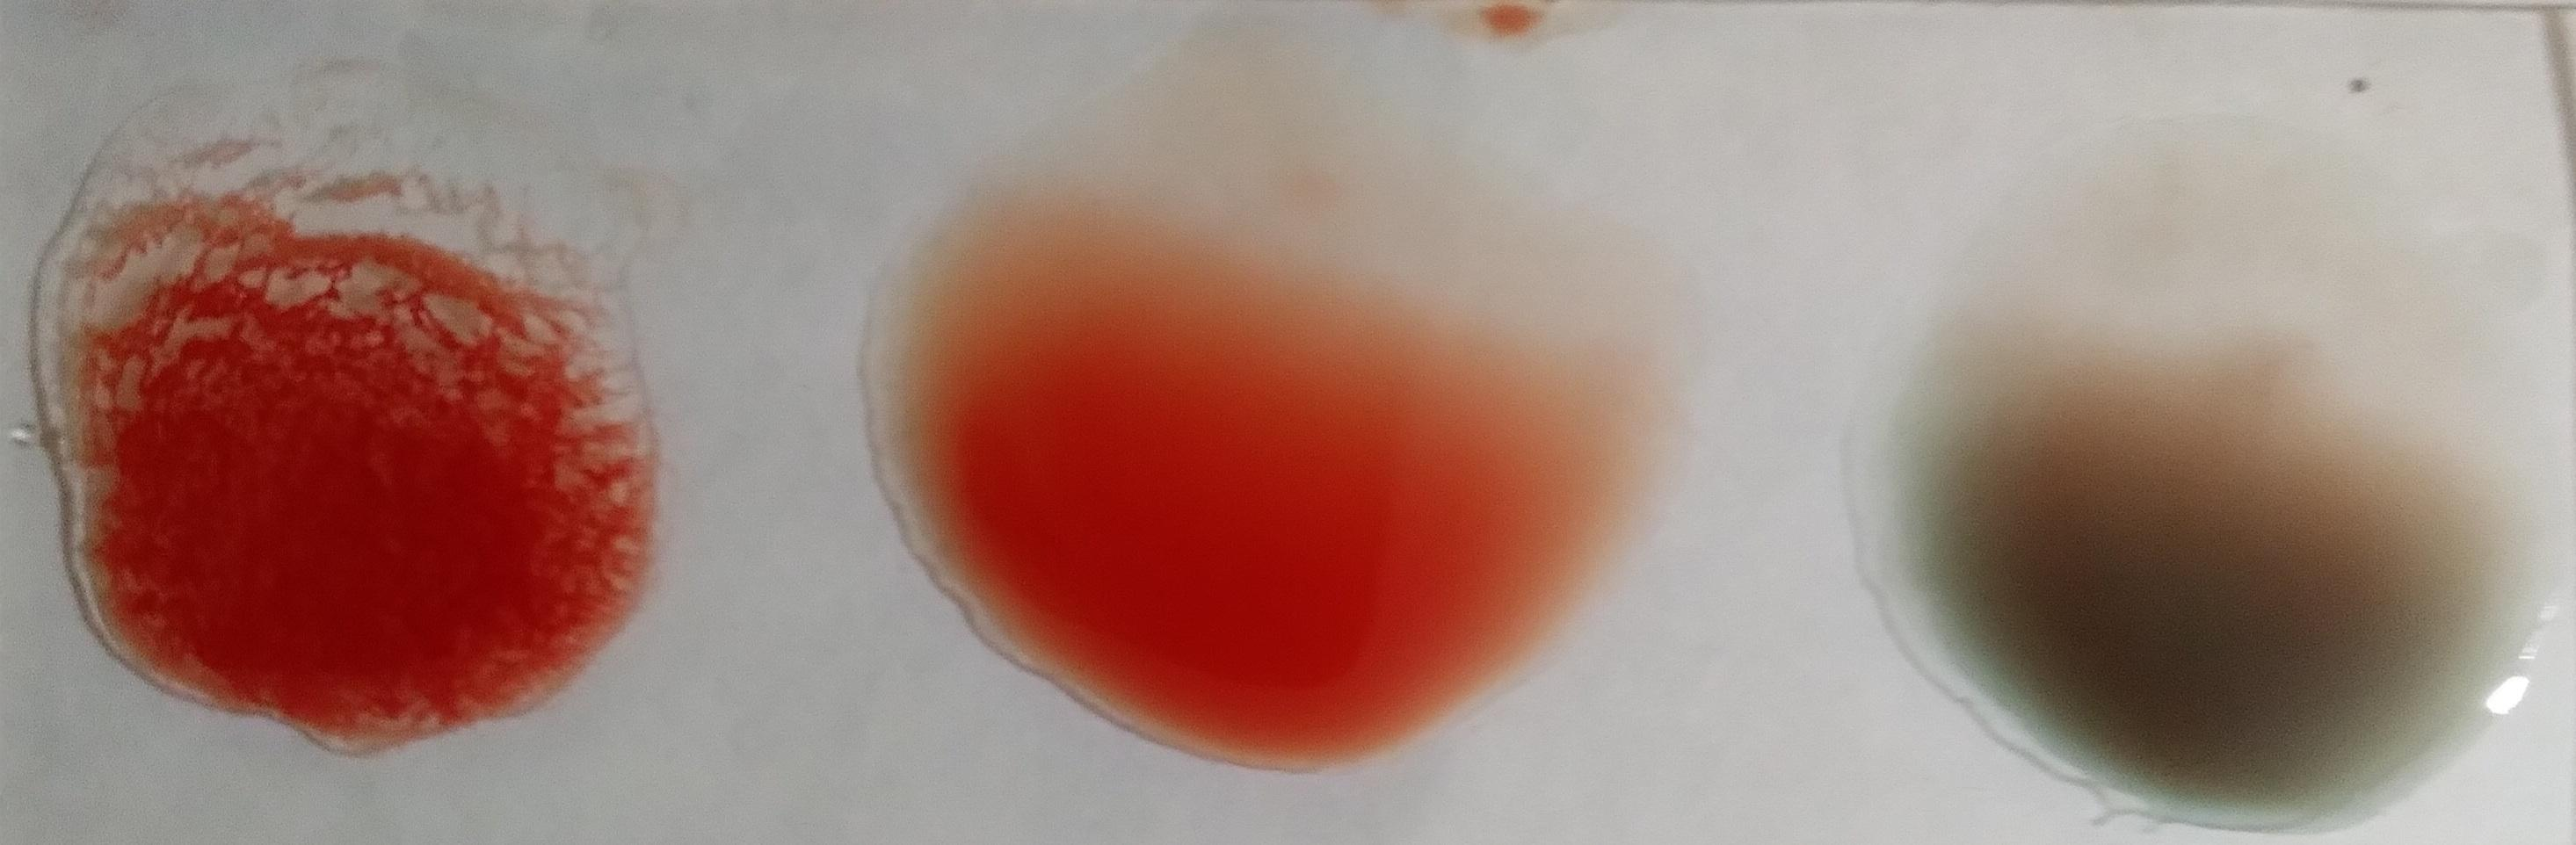D: (48, 108, 644, 738)
